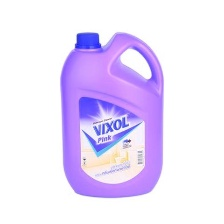cleaning_solution: (55, 28, 167, 202)
